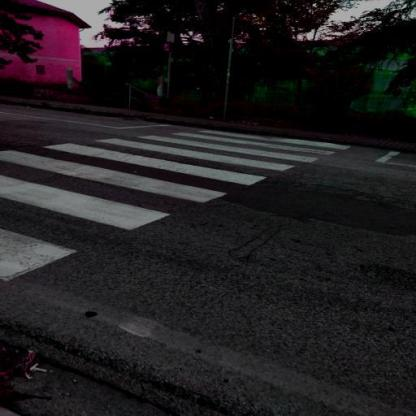crosswalk: (39, 136, 297, 188)
